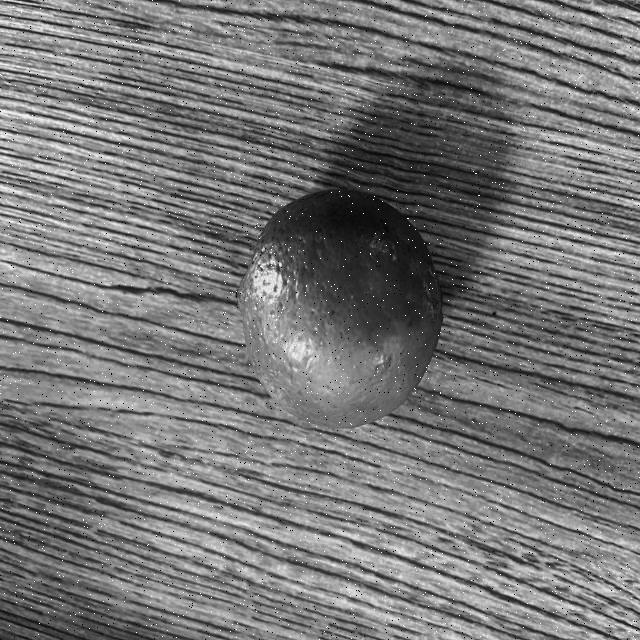Apel Gala: (230, 184, 450, 432)
